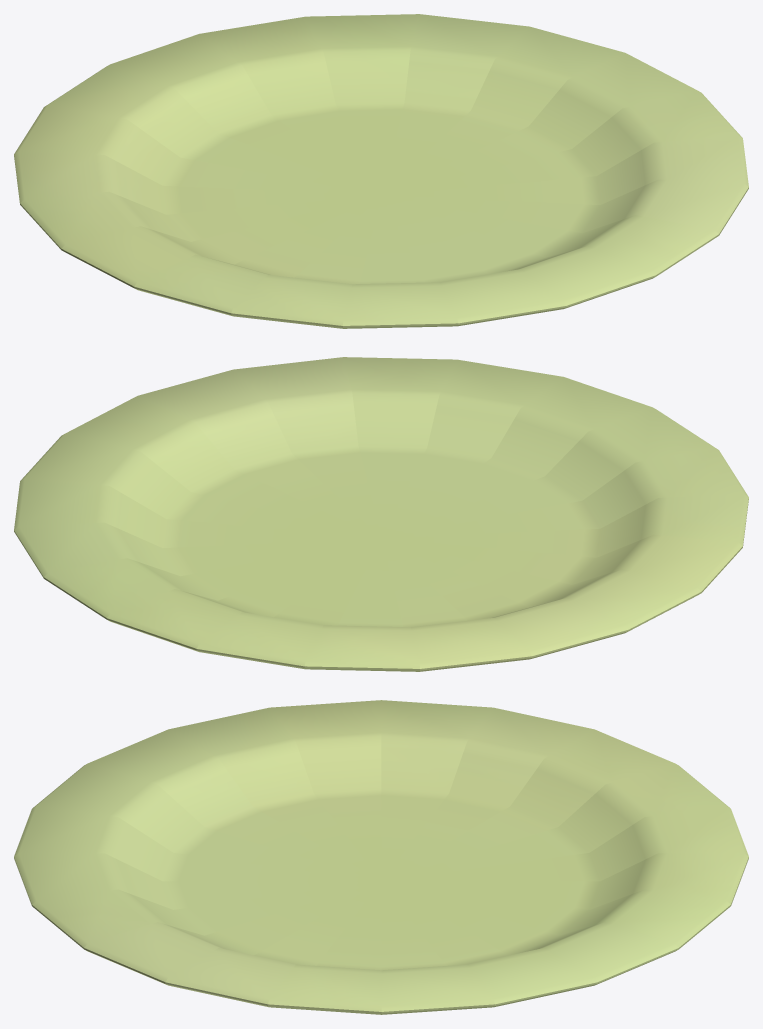
Rendered from bridge_plate_objaverse_larger.fbx.
The picture shows the model from 3 angles, top to bottom: view 1: azimuth 30°, elevation 25°; view 2: azimuth 150°, elevation 25°; view 3: azimuth 270°, elevation 25°; orthographic projection.
Visible parts, largest first — view 1: Object_2; view 2: Object_2; view 3: Object_2.
Part boxes in pixels (box(x1,y1,x2,y2)): Object_2: box(14, 14, 748, 328); Object_2: box(14, 357, 748, 671); Object_2: box(14, 700, 748, 1014).
Bounding box in the file's own units: 0.11 × 0.006 × 0.11.
1 material, 1 textured.
